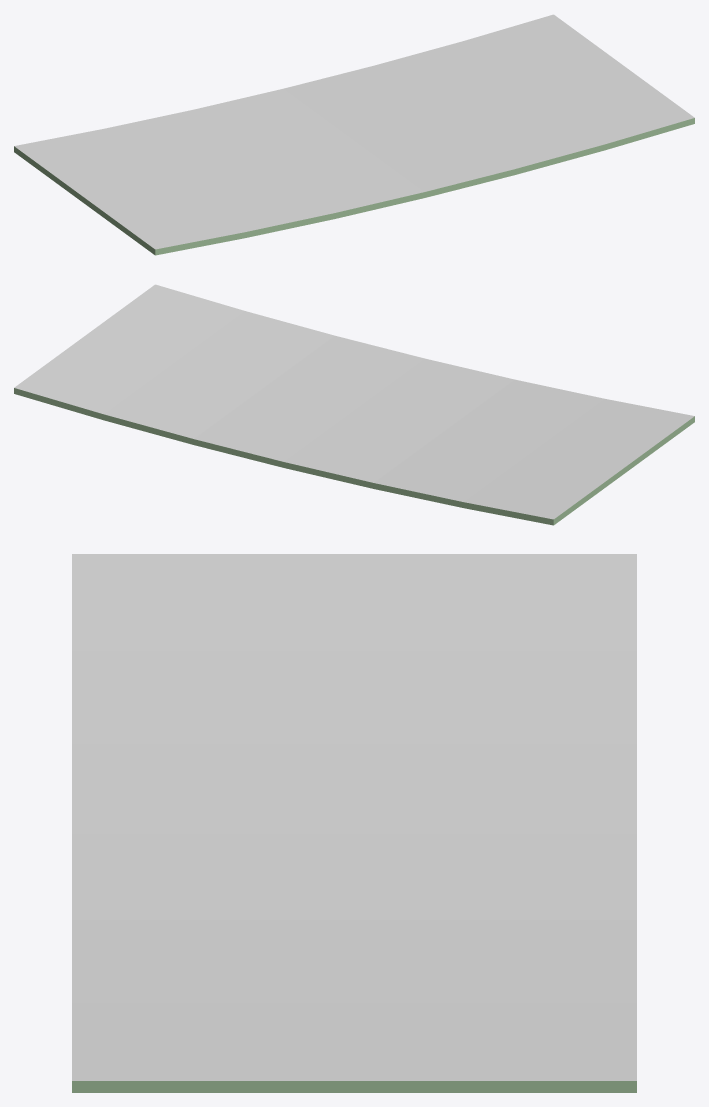
Rendered from RmBill.fbx.
The picture shows the model from 3 angles, top to bottom: view 1: azimuth 30°, elevation 25°; view 2: azimuth 150°, elevation 25°; view 3: azimuth 270°, elevation 25°; orthographic projection. The views are drawn at different scales.
Parts seen in each view (by area): view 1: RmBillBody; view 2: RmBillBody; view 3: RmBillBody.
Boxes of the visible parts, x1,y1,x2,y2 form: RmBillBody: [14, 14, 694, 255]; RmBillBody: [14, 284, 694, 525]; RmBillBody: [72, 554, 636, 1092].
Bounding box in the file's own units: 0.15 × 0.0038 × 0.068.
